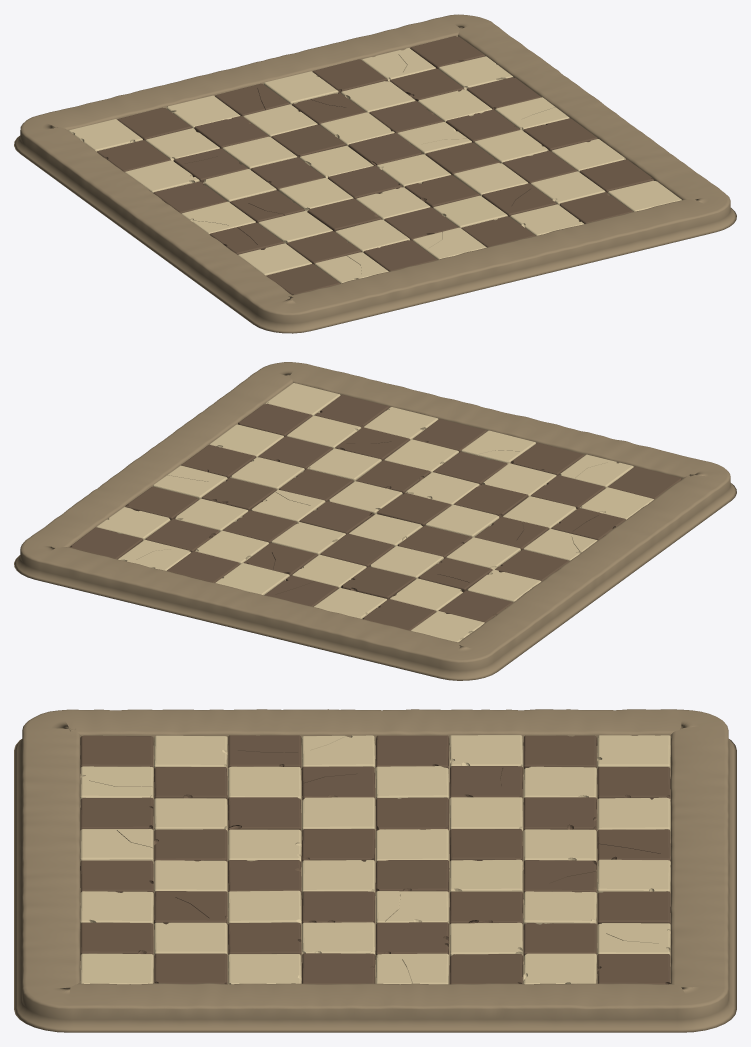
File: KFB_ChessBoard.r1.glb
The picture shows the model from 3 angles, top to bottom: view 1: azimuth 30°, elevation 25°; view 2: azimuth 150°, elevation 25°; view 3: azimuth 270°, elevation 25°; orthographic projection. The views are drawn at different scales.
Visible parts, largest first — view 1: KFB_ChessBoard, KFB_Square_e8, KFB_Square_b5, KFB_Square_d4, KFB_Square_e5, KFB_Square_c3, KFB_Square_c4, KFB_Square_g4, KFB_Square_f2, KFB_Square_f8, KFB_Square_c6, KFB_Square_d6 (+53 smaller); view 2: KFB_ChessBoard, KFB_Square_d1, KFB_Square_c7, KFB_Square_c4, KFB_Square_d6, KFB_Square_c3, KFB_Square_h5, KFB_Square_h2, KFB_Square_d4, KFB_Square_g4, KFB_Square_b6, KFB_Square_e5 (+53 smaller); view 3: KFB_ChessBoard, KFB_ChessBoard_base, KFB_Square_c7, KFB_Square_c3, KFB_Square_f7, KFB_Square_e8, KFB_Square_f8, KFB_Square_f2, KFB_Square_a7, KFB_Square_c8, KFB_Square_f6, KFB_Square_f3 (+54 smaller).
Boxes of the visible parts, box(x1,y1,x2,y2) form: KFB_ChessBoard: box(14, 14, 736, 333); KFB_Square_e8: box(263, 71, 338, 104); KFB_Square_b5: box(203, 169, 276, 202); KFB_Square_d4: box(328, 165, 402, 199); KFB_Square_e5: box(348, 133, 422, 165); KFB_Square_c3: box(307, 198, 381, 231); KFB_Square_c4: box(279, 177, 353, 211); KFB_Square_g4: box(474, 130, 548, 163); KFB_Square_f2: box(482, 183, 556, 216); KFB_Square_f8: box(312, 59, 387, 92); KFB_Square_c6: box(222, 136, 297, 169); KFB_Square_d6: box(271, 124, 346, 157); KFB_ChessBoard: box(14, 362, 736, 680); KFB_Square_d1: box(461, 430, 535, 463); KFB_Square_c7: box(341, 566, 415, 599); KFB_Square_c4: box(425, 504, 499, 537); KFB_Square_d6: box(320, 533, 393, 567); KFB_Square_c3: box(454, 484, 528, 517); KFB_Square_h5: box(153, 465, 227, 499); KFB_Square_h2: box(238, 403, 312, 436); KFB_Square_d4: box(377, 492, 451, 526); KFB_Square_g4: box(230, 457, 304, 489); KFB_Square_b6: box(418, 558, 492, 592); KFB_Square_e5: box(299, 501, 374, 533); KFB_ChessBoard: box(14, 709, 736, 1032); KFB_ChessBoard_base: box(80, 745, 670, 984); KFB_Square_c7: box(523, 797, 596, 830); KFB_Square_c3: box(228, 797, 301, 831); KFB_Square_f7: box(523, 891, 596, 929); KFB_Square_e8: box(597, 859, 670, 898); KFB_Square_f8: box(597, 891, 670, 924); KFB_Square_f2: box(154, 891, 227, 929); KFB_Square_a7: box(523, 735, 596, 774); KFB_Square_c8: box(597, 797, 670, 836); KFB_Square_f6: box(449, 891, 522, 924); KFB_Square_f3: box(228, 890, 301, 929).
Size of the model in its own units: 47.66 by 1.65 by 47.66.
